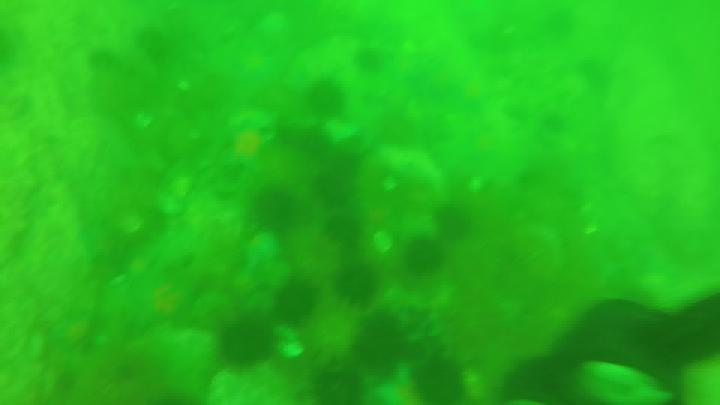echinus: (358, 313, 408, 379), (216, 318, 276, 371), (410, 359, 471, 405), (275, 280, 331, 328), (306, 363, 367, 405), (246, 191, 294, 233), (308, 171, 355, 205), (337, 263, 375, 305), (302, 82, 345, 117), (409, 240, 448, 277), (293, 135, 336, 165), (328, 203, 359, 244), (437, 207, 472, 238), (356, 51, 385, 71)
scallop: (156, 193, 187, 219), (281, 329, 307, 359), (374, 230, 395, 255), (118, 219, 146, 236), (170, 177, 199, 193)
